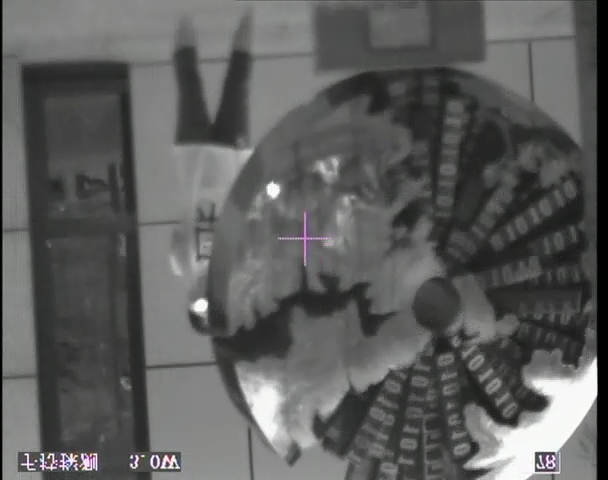my: (193, 298, 208, 313)
